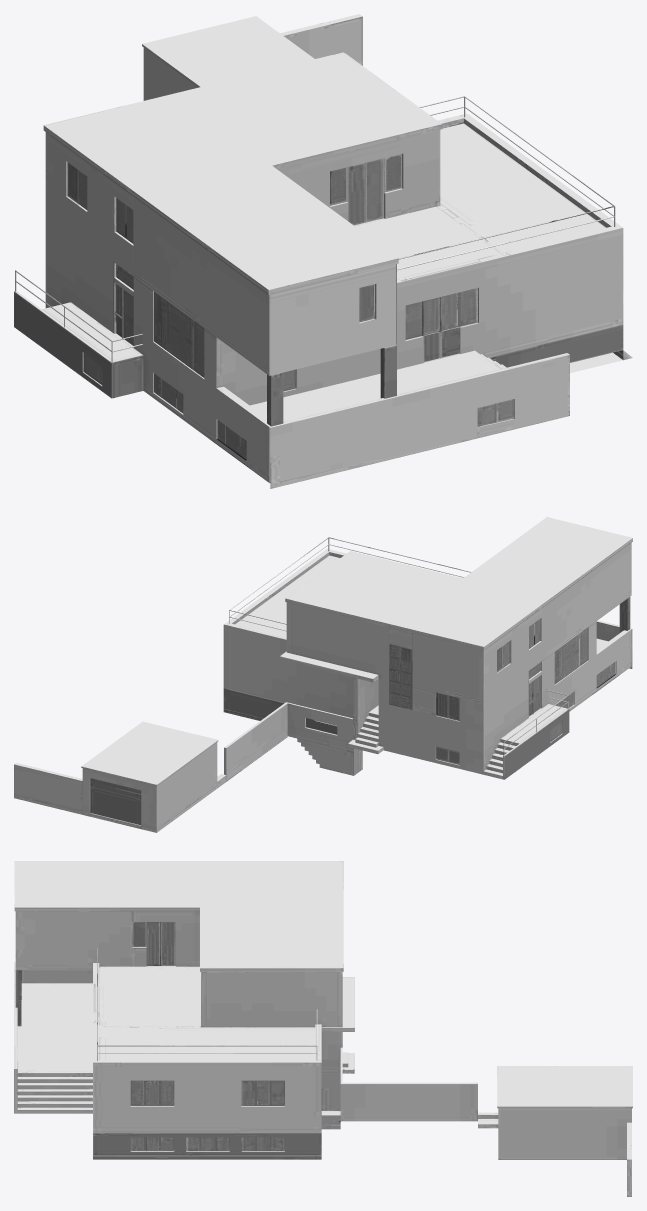
File: bau.fbx
3 views of the same model, one above another, from view 1: azimuth 30°, elevation 25°; view 2: azimuth 150°, elevation 25°; view 3: azimuth 270°, elevation 25° (orthographic). The views are drawn at different scales.
Visible parts, largest first — view 1: group_159; view 2: group_159; view 3: group_159.
Boxes of the visible parts, <box> form: group_159: <box>14,14,632,488</box>; group_159: <box>14,517,632,832</box>; group_159: <box>14,861,632,1196</box>.
Size of the model in its own units: 7.6 by 3.27 by 10.26.
1 material, 1 textured.
